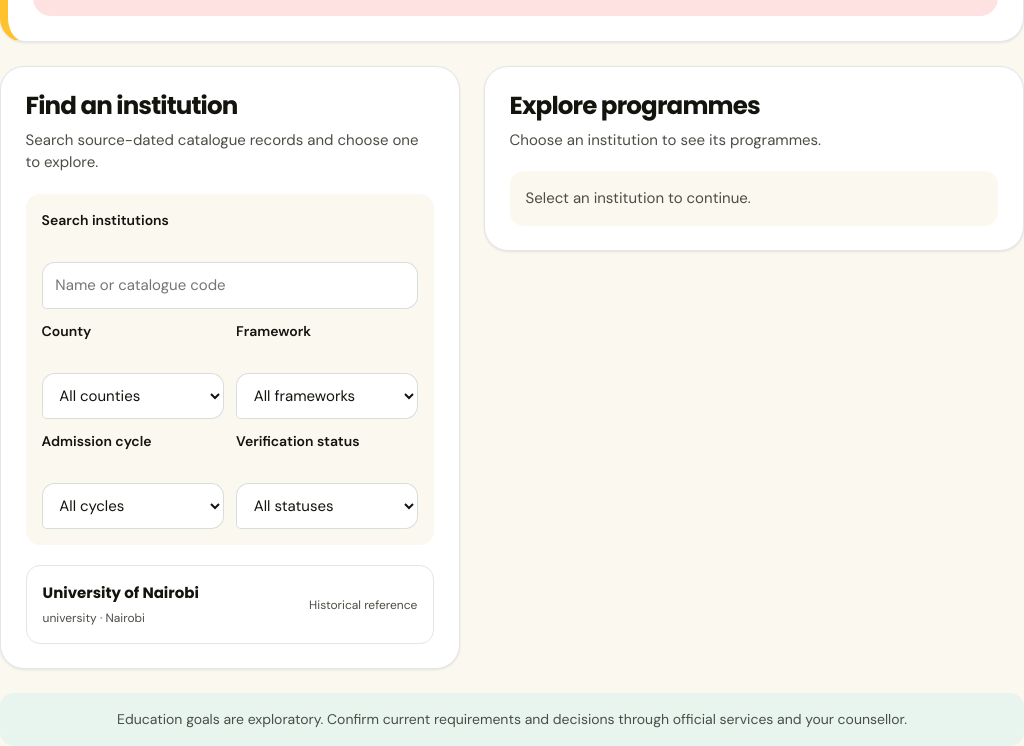
education goals workspace › keeps goal creation unavailable when saved goals cannot load
The image size is (1024, 746).
(page scrolled)
What coordinates should you click on to do the following:
click the button with aria-label "Explore University of Nairobi"
I would click on:
 (121, 593)
Its box is [26,565,434,644].
(page scrolled)
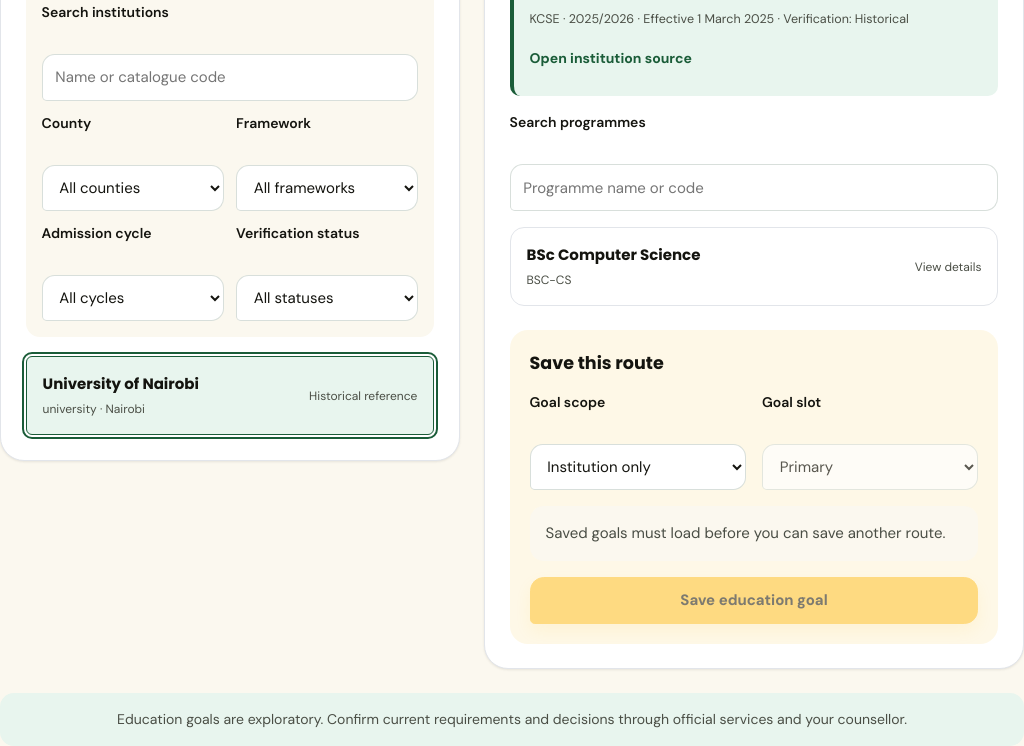
expect the dropdown labelled "Goal slot" is disabled: met, box [762,444,978,490]
expect the button "Save education goal" is disabled: met, box [530,577,978,624]
